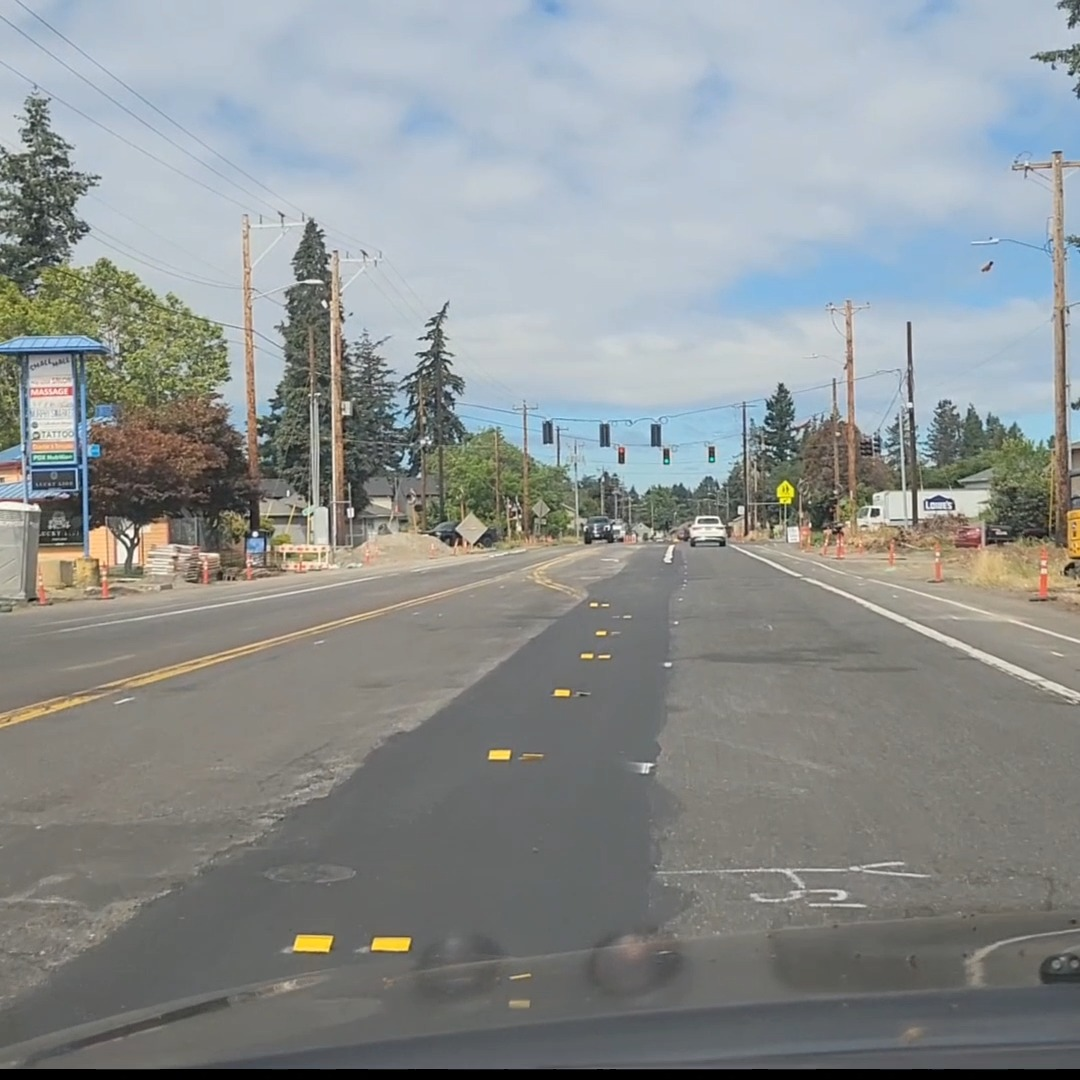car: (423, 520, 495, 547), (688, 515, 728, 546), (582, 516, 617, 544), (669, 521, 694, 540)
crosswalk-sign: (776, 480, 794, 503)
delineator: (927, 541, 944, 582), (1037, 548, 1050, 598), (36, 568, 52, 605), (100, 562, 111, 599), (834, 530, 843, 558), (244, 555, 253, 580), (201, 556, 209, 584), (363, 542, 373, 563), (294, 553, 305, 572), (888, 537, 895, 565), (855, 530, 862, 552), (429, 542, 437, 557), (451, 538, 458, 555)
